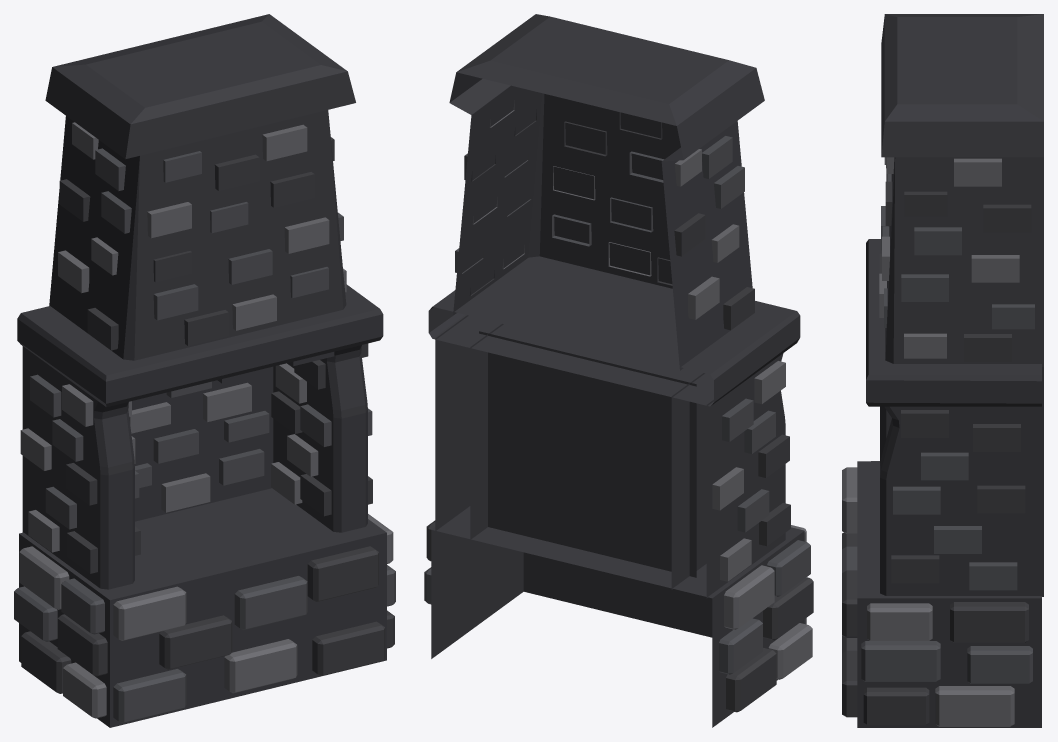
File: FirePlace.fbx
3 renders of one model, left to right at view 1: azimuth 30°, elevation 25°; view 2: azimuth 150°, elevation 25°; view 3: azimuth 270°, elevation 25°, orthographic.
Parts seen in each view (by area): view 1: polySurface2022; view 2: polySurface2022; view 3: polySurface2022.
Part boxes in pixels (x1,y1,x2,y2): polySurface2022: (14, 14, 395, 727); polySurface2022: (424, 14, 813, 727); polySurface2022: (842, 14, 1043, 727).
Size of the model in its own units: 164 by 307 by 93.48.
